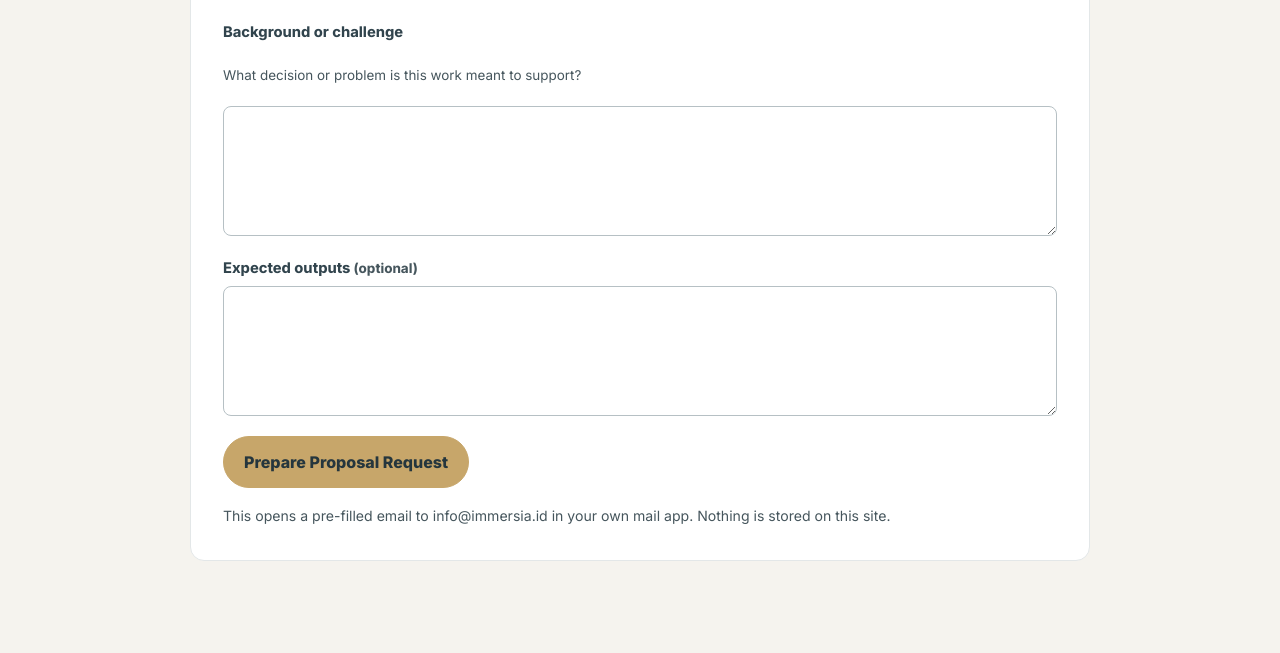
Test: Request proposal form › reports errors inline instead of failing silently
The width and height of the screenshot is (1280, 653).
(page scrolled)
Click the button "Prepare Proposal Request" at (346, 462), box [223, 436, 469, 488]
(page scrolled)
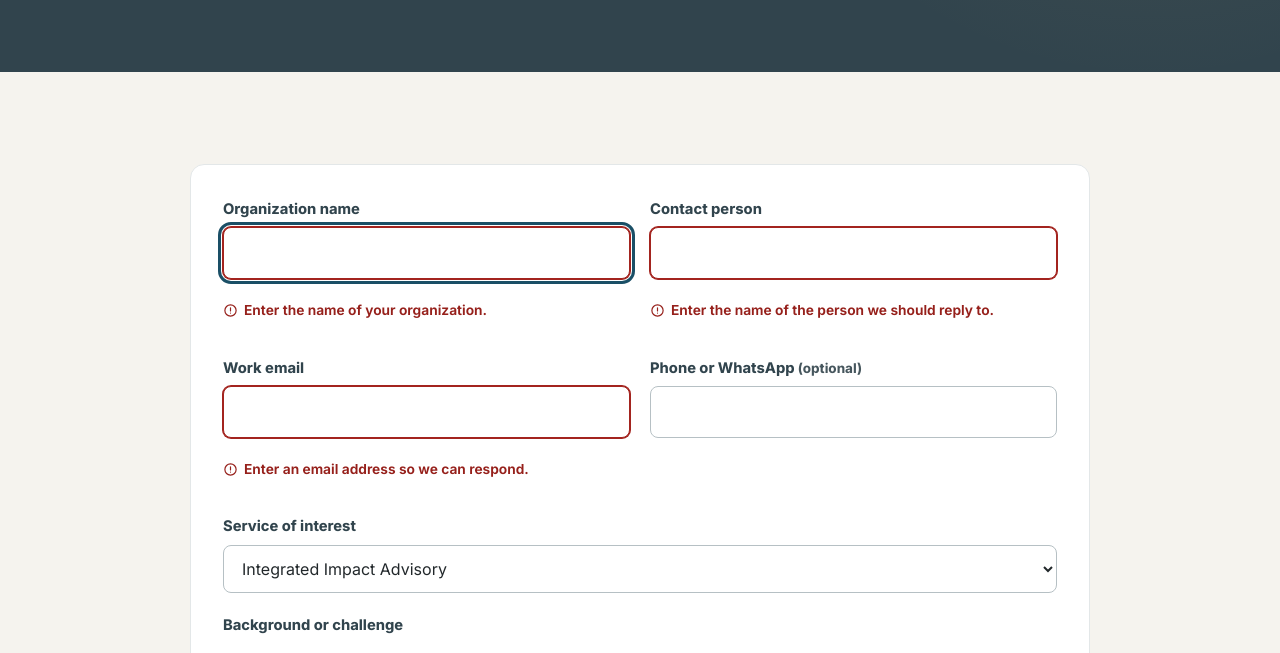
Result: the text "Enter the name of your organization." is shown at [223, 302, 487, 318]
